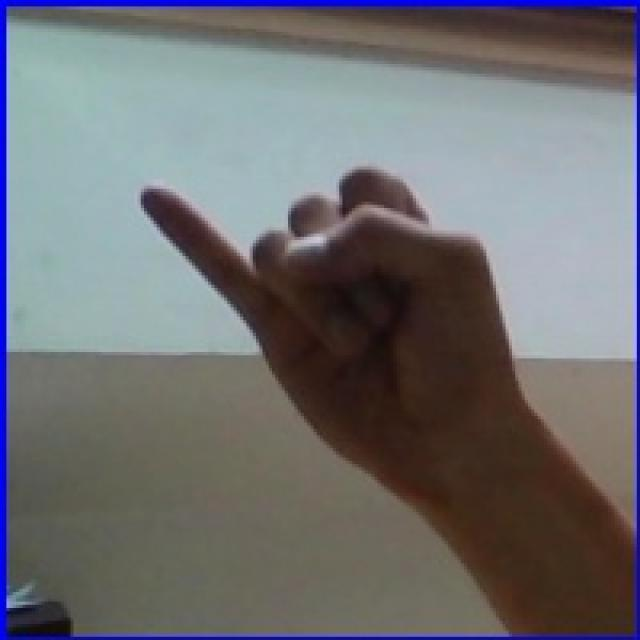J: (72, 72, 576, 550)
